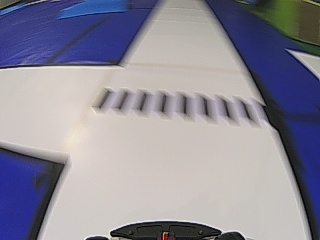CrossWalk: (86, 84, 274, 128)
